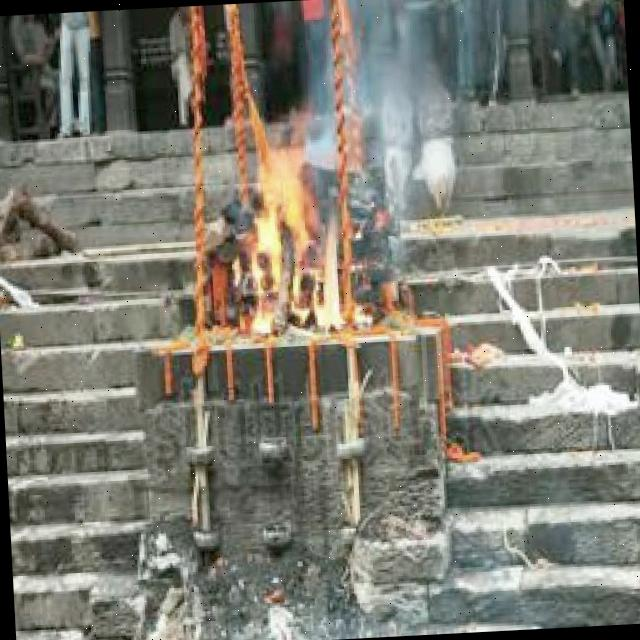fire: (242, 107, 352, 336)
